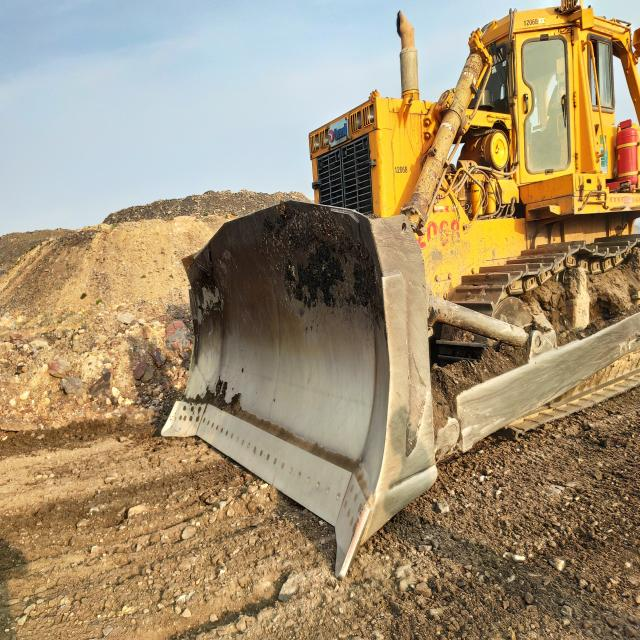buldozerpayloadergrader: (162, 0, 640, 578)
